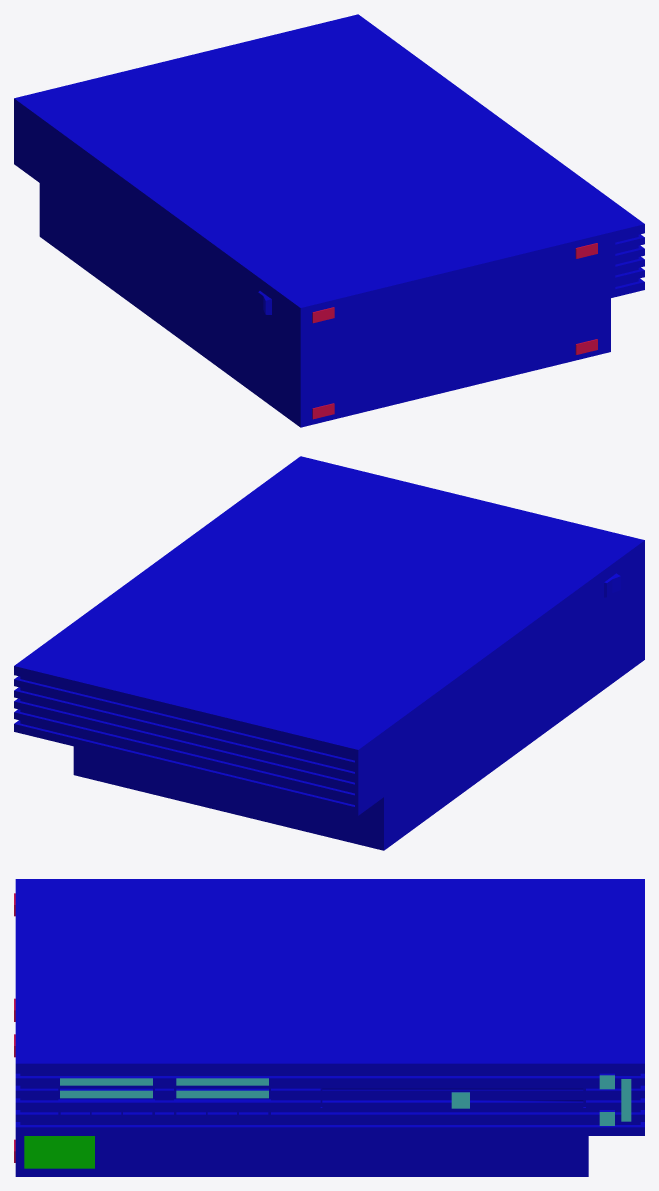
File: PLAYSTATION2.fbx
3 views of the same model, one above another, from view 1: azimuth 30°, elevation 25°; view 2: azimuth 150°, elevation 25°; view 3: azimuth 270°, elevation 25° (orthographic). The views are drawn at different scales.
Visible parts, largest first — view 1: PLAYSTATION2; view 2: PLAYSTATION2; view 3: PLAYSTATION2.
Boxes of the visible parts, x1,y1,x2,y2 form: PLAYSTATION2: (14, 14, 644, 427); PLAYSTATION2: (14, 456, 644, 850); PLAYSTATION2: (14, 879, 644, 1176).
Bounding box in the file's own units: 0.3939 × 0.1304 × 0.5597.
